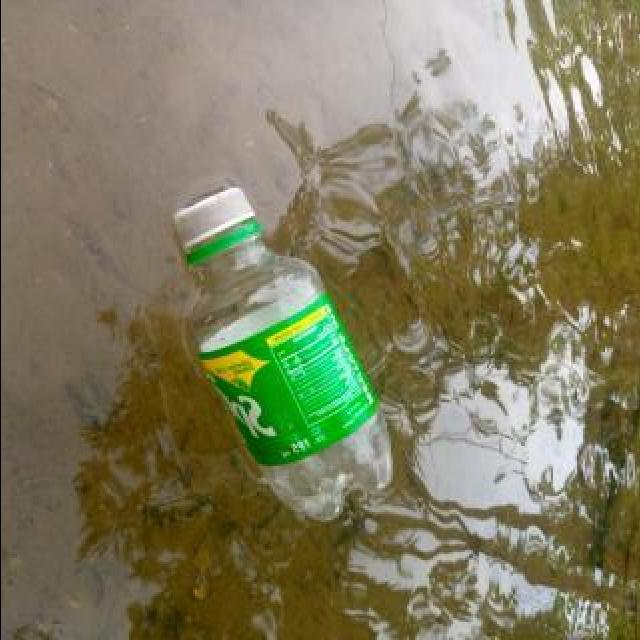Bottle: (168, 182, 400, 523)
